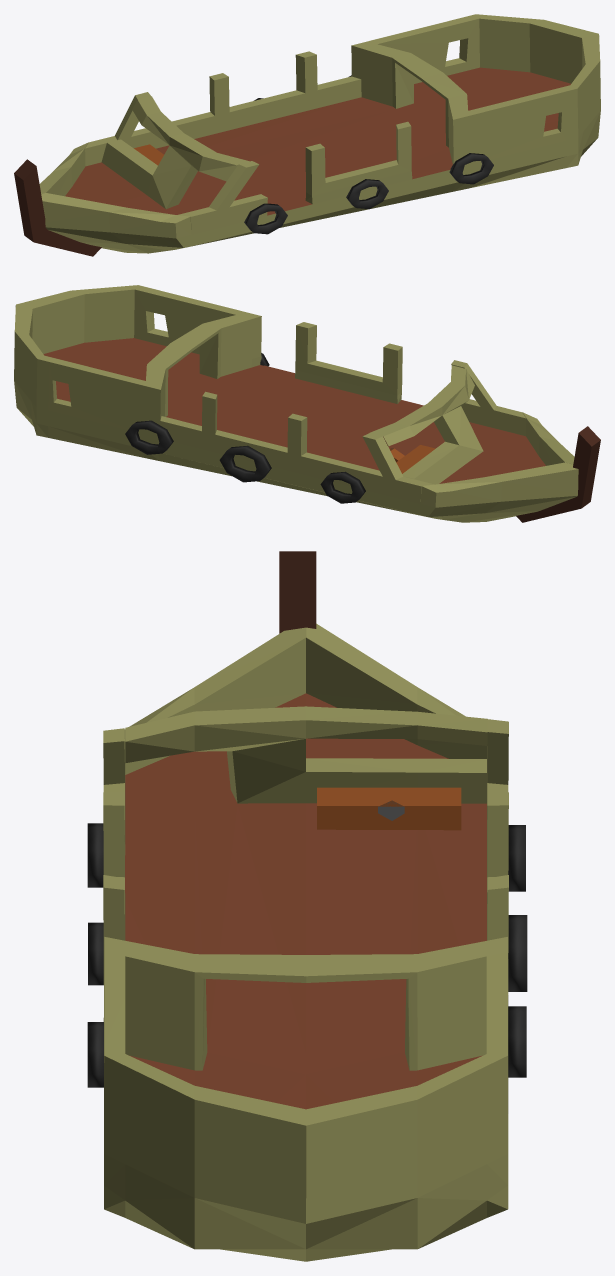
The model's file is FASE 4 BARCO PRETO.dae.
3 views of the same model, one above another, from view 1: azimuth 30°, elevation 25°; view 2: azimuth 150°, elevation 25°; view 3: azimuth 270°, elevation 25° (orthographic). The views are drawn at different scales.
Parts seen in each view (by area): view 1: Cube.001, Cube.020, Cube.011, Cube.009, Cube.010; view 2: Cube.001, Cube.020, Cube.013, Cube.012, Cube.014, Cube.004; view 3: Cube.001, Cube.004, Cube.020, Cube.013, Cube.012, Cube.014, Cube.011, Cube.009, Cube.010.
Boxes of the visible parts, <box> form: Cube.001: <box>39,14,600,253</box>; Cube.020: <box>14,159,101,256</box>; Cube.011: <box>449,153,493,184</box>; Cube.009: <box>244,203,287,234</box>; Cube.010: <box>346,179,388,209</box>; Cube.001: <box>14,285,578,522</box>; Cube.020: <box>516,426,600,522</box>; Cube.013: <box>219,445,271,482</box>; Cube.012: <box>125,420,173,454</box>; Cube.014: <box>320,471,365,503</box>; Cube.004: <box>390,445,435,473</box>; Cube.001: <box>103,623,508,1261</box>; Cube.004: <box>317,787,461,830</box>; Cube.020: <box>279,551,316,633</box>; Cube.013: <box>508,915,527,991</box>; Cube.012: <box>508,1006,526,1077</box>; Cube.014: <box>508,825,525,891</box>; Cube.011: <box>87,1022,103,1087</box>; Cube.009: <box>87,823,103,887</box>; Cube.010: <box>88,922,103,985</box>.
Bounding box in the file's own units: 112 × 36.95 × 21.17.
